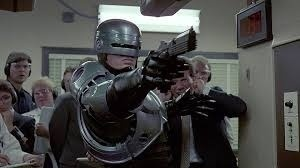pistol: (153, 25, 198, 70)
